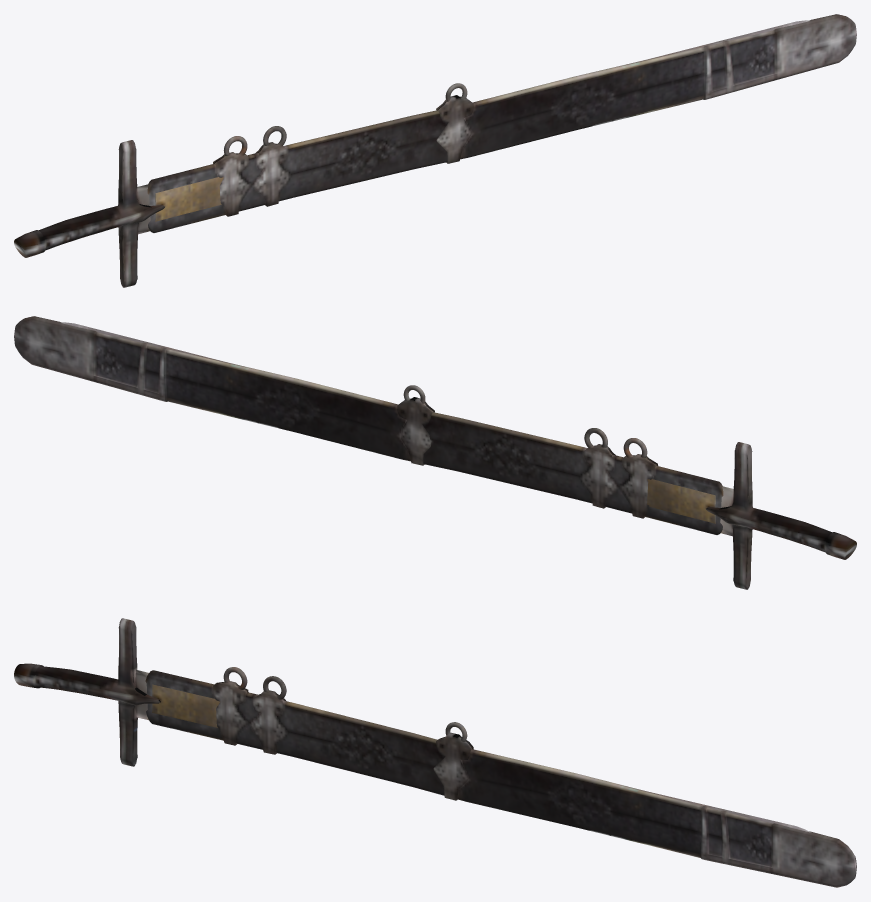
Rendered from sword_tamam.glb.
3 views of the same model, one above another, from view 1: azimuth 30°, elevation 25°; view 2: azimuth 150°, elevation 25°; view 3: azimuth 330°, elevation 25° (orthographic).
Parts seen in each view (by area): view 1: Sword2, Sword1; view 2: Sword2, Sword1; view 3: Sword2, Sword1.
Boxes of the visible parts, left/top/right/bottom form: Sword2: left=147, top=14, right=856, bottom=232; Sword1: left=14, top=20, right=810, bottom=287; Sword2: left=14, top=316, right=723, bottom=534; Sword1: left=60, top=322, right=856, bottom=589; Sword2: left=145, top=667, right=856, bottom=887; Sword1: left=14, top=618, right=810, bottom=832.
Size of the model in its own units: 2.81 by 0.4675 by 0.0691.
Materials: 2 (2 with a texture image).
